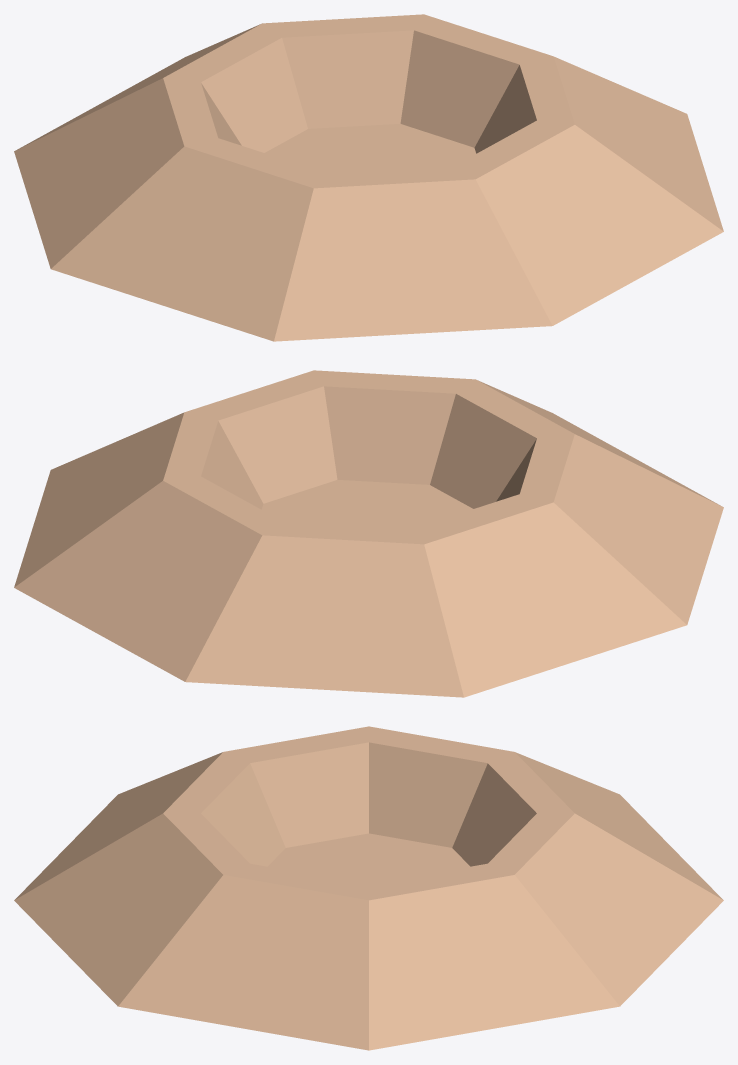
File: craterLarge.glb
3 views of the same model, one above another, from view 1: azimuth 30°, elevation 25°; view 2: azimuth 150°, elevation 25°; view 3: azimuth 270°, elevation 25° (orthographic). The views are drawn at different scales.
Parts seen in each view (by area): view 1: craterLarge; view 2: craterLarge; view 3: craterLarge.
Part boxes in pixels (box(x1,y1,x2,y2)): craterLarge: box(14, 14, 723, 341); craterLarge: box(14, 370, 723, 697); craterLarge: box(14, 726, 723, 1050).
Size of the model in its own units: 8.86 by 1.2 by 8.86.
